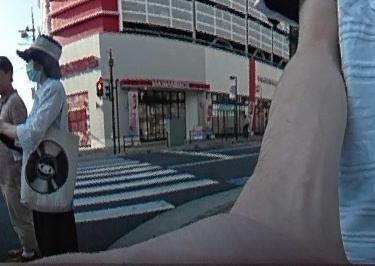person: (16, 33, 81, 252), (240, 113, 249, 136)
